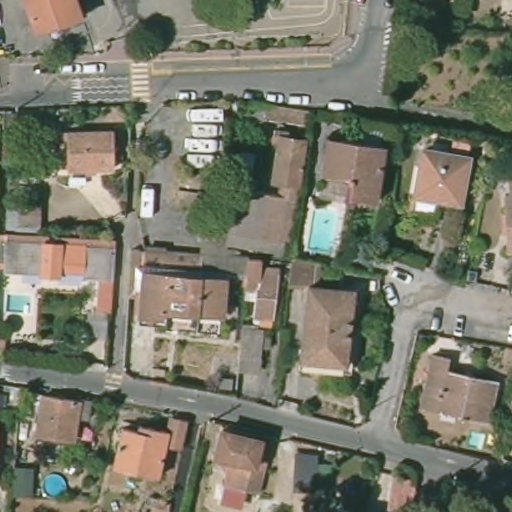pool: (309, 200, 346, 259), (1, 290, 36, 326), (38, 466, 71, 503), (467, 427, 493, 454)
